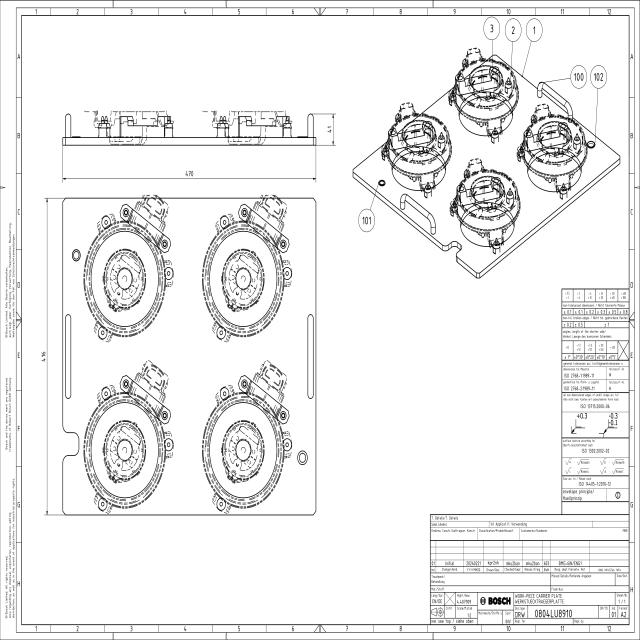dimension: (40, 349, 47, 363), (184, 170, 194, 178), (327, 125, 332, 134)
